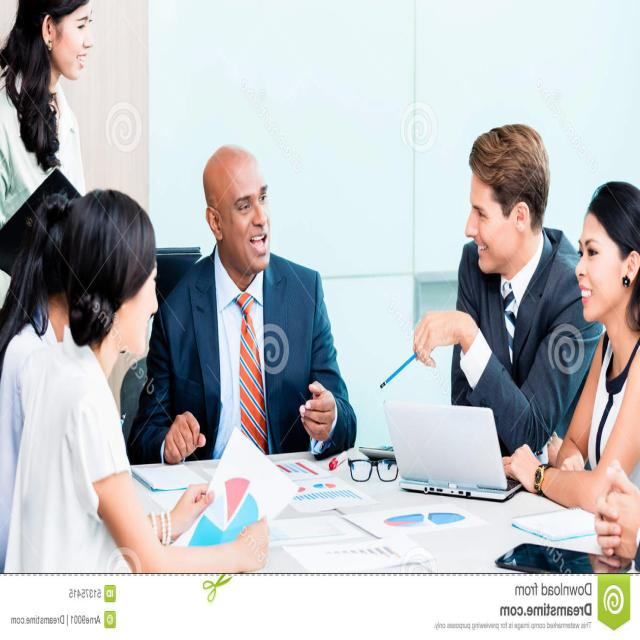adult: (0, 189, 222, 576), (134, 141, 353, 465), (414, 120, 589, 467), (504, 178, 640, 501), (0, 0, 107, 264)
